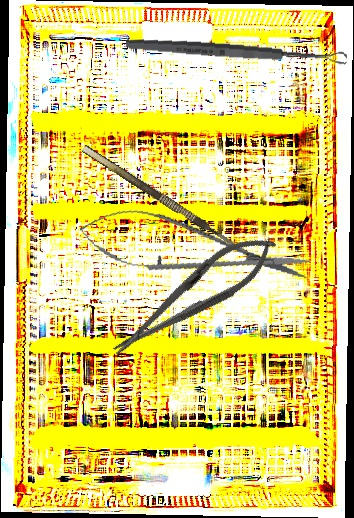Hook Surgical: (81, 134, 273, 269)
Micro Scissor: (74, 200, 314, 298)
Needle Holder: (100, 220, 287, 371)
Surgical Spoon: (125, 36, 348, 67)
